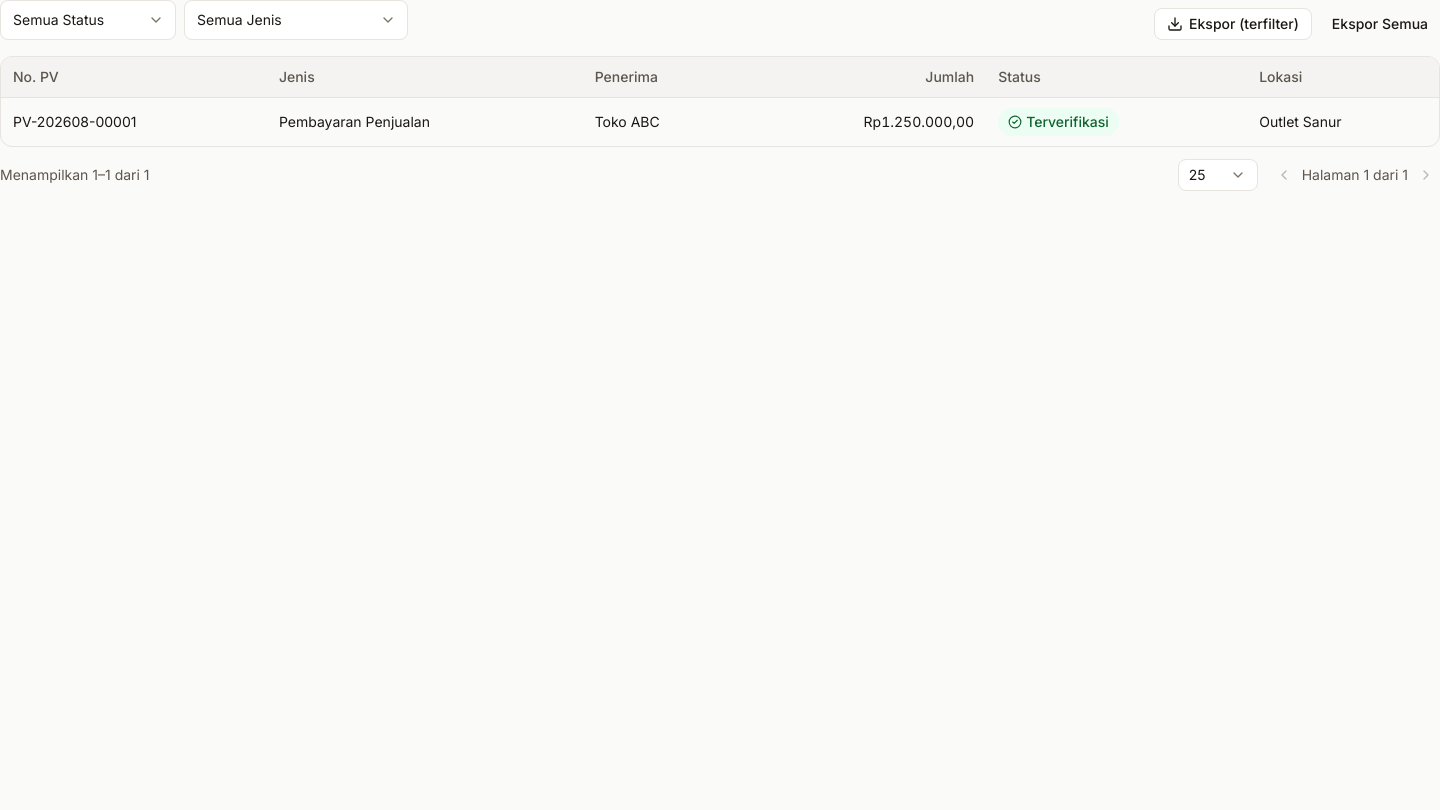
Test: PaymentsPanel — payment verification queue › shows the Bayar action (not Verifikasi) once a PV is verified, gated by payment.pay
This screenshot has width=1440, height=810.
Step 1. Click the text "PV-202608-00001" → (134, 122), box [1,98,267,146]
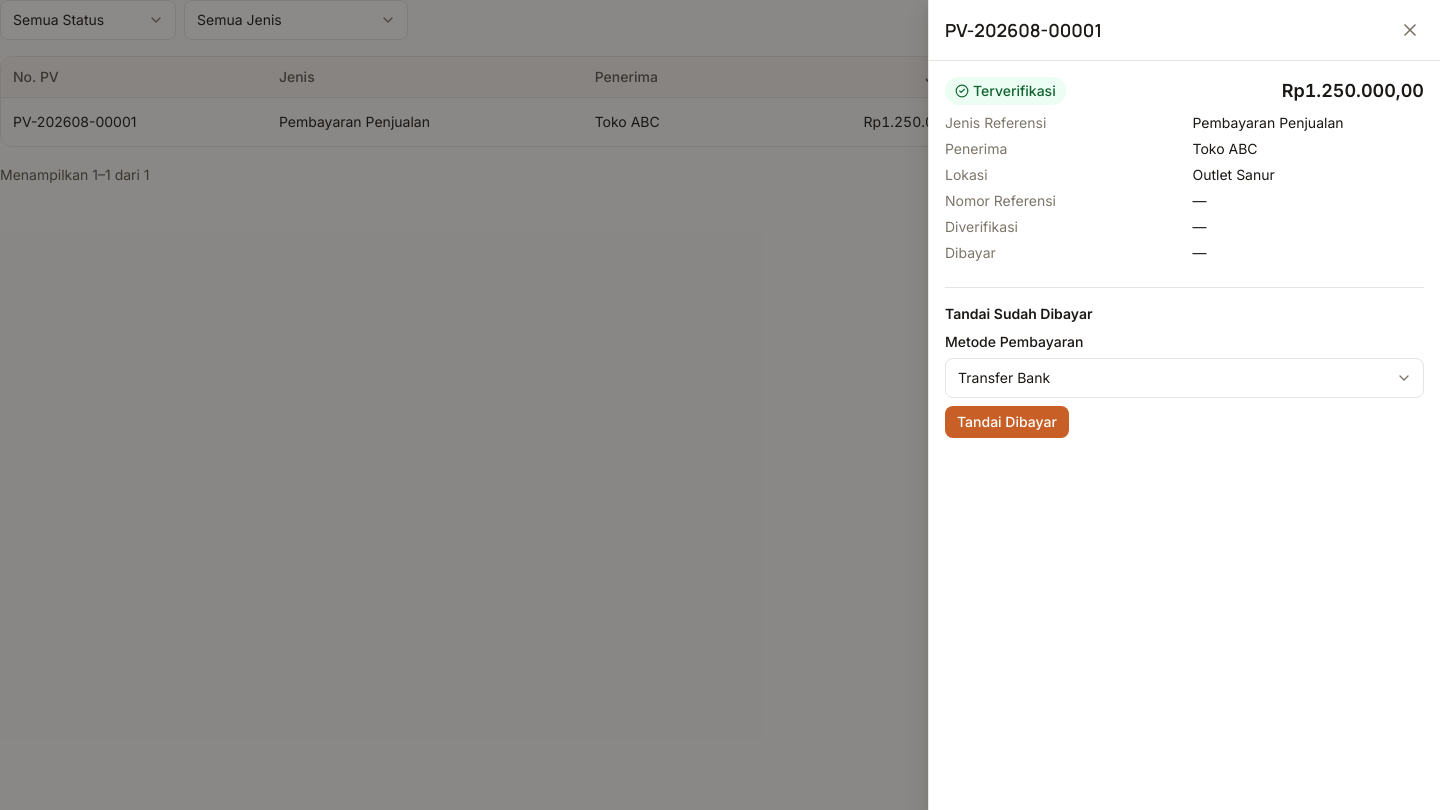
expect the button "Tandai Dibayar" is shown: met, box [945,406,1069,438]
